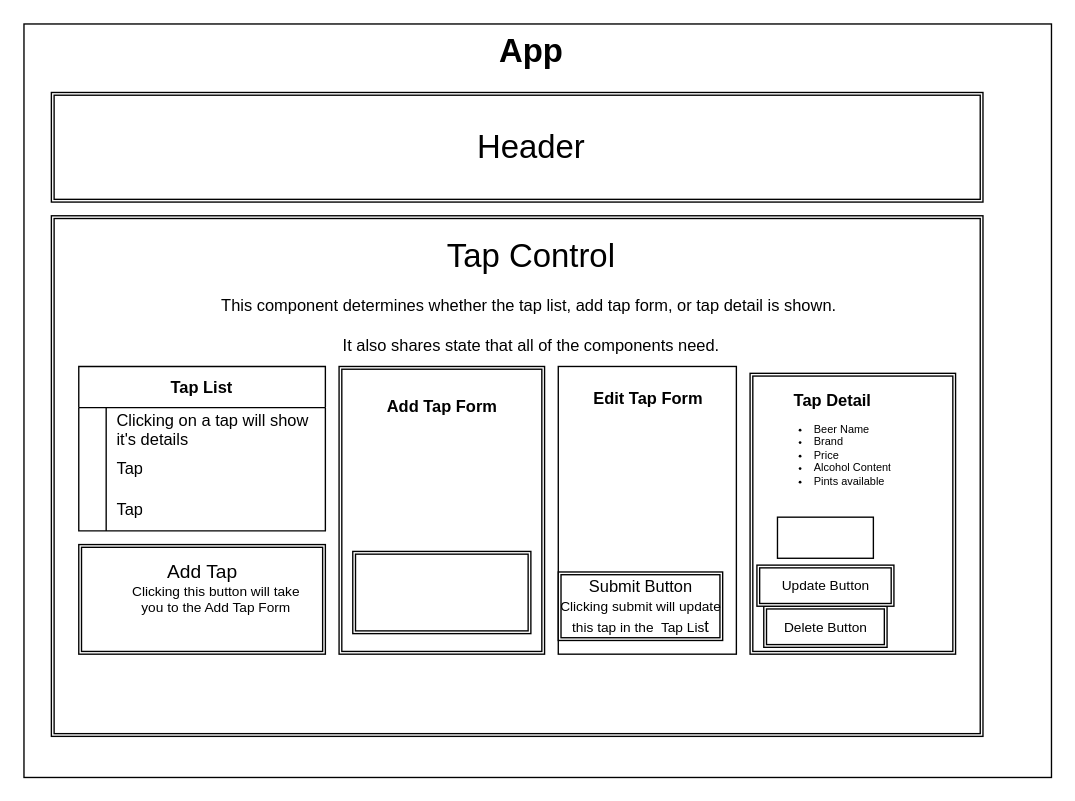
This 1075x801 diagram has some shape labels left out. Each missing label, with the centre of its shape:
"Buy Button" belongs at (x=824, y=537).
"Submit Button Clicking submit will add the new tap to the Tap List" belongs at (x=441, y=592).
